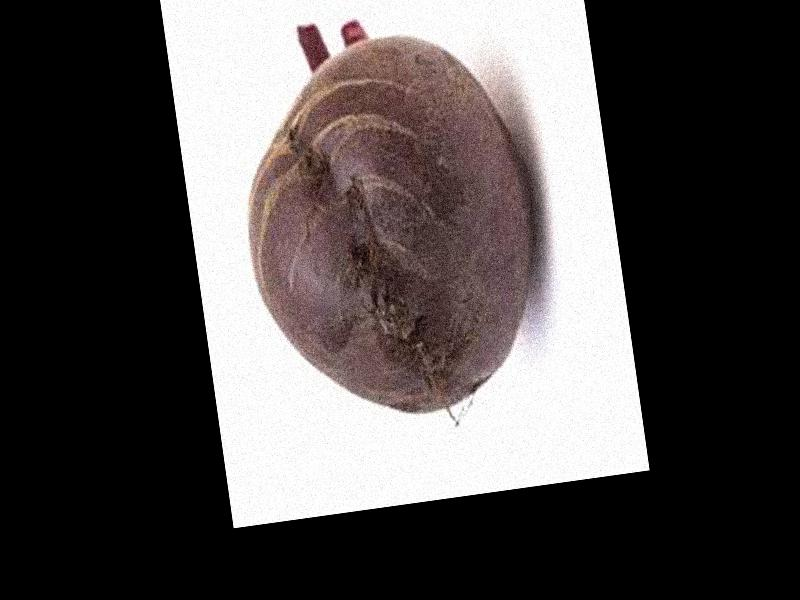Beet: (218, 0, 562, 435)
